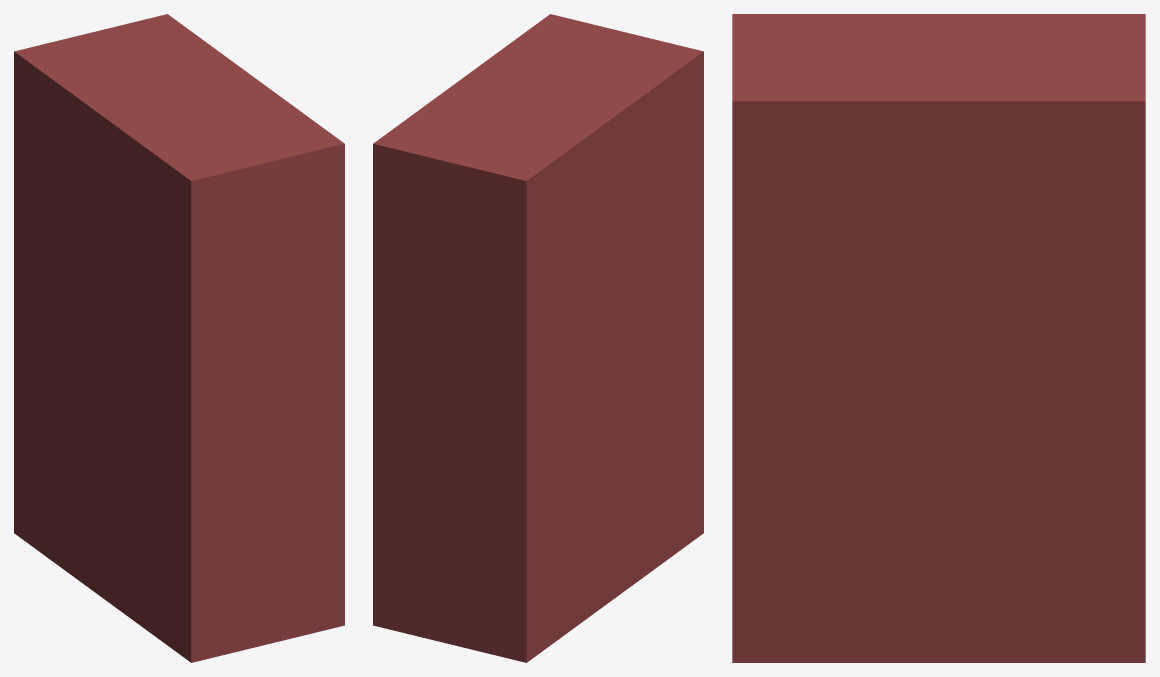
The model's file is Wall 2x1.fbx.
3 views of the same model, side by side, from view 1: azimuth 30°, elevation 25°; view 2: azimuth 150°, elevation 25°; view 3: azimuth 270°, elevation 25° (orthographic). The views are drawn at different scales.
Parts seen in each view (by area): view 1: Wall_2x1; view 2: Wall_2x1; view 3: Wall_2x1.
Part boxes in pixels (left/top/right/bottom): Wall_2x1: left=14, top=14, right=344, bottom=662; Wall_2x1: left=373, top=14, right=703, bottom=662; Wall_2x1: left=732, top=14, right=1145, bottom=662.
Size of the model in its own units: 1 by 3 by 2.
